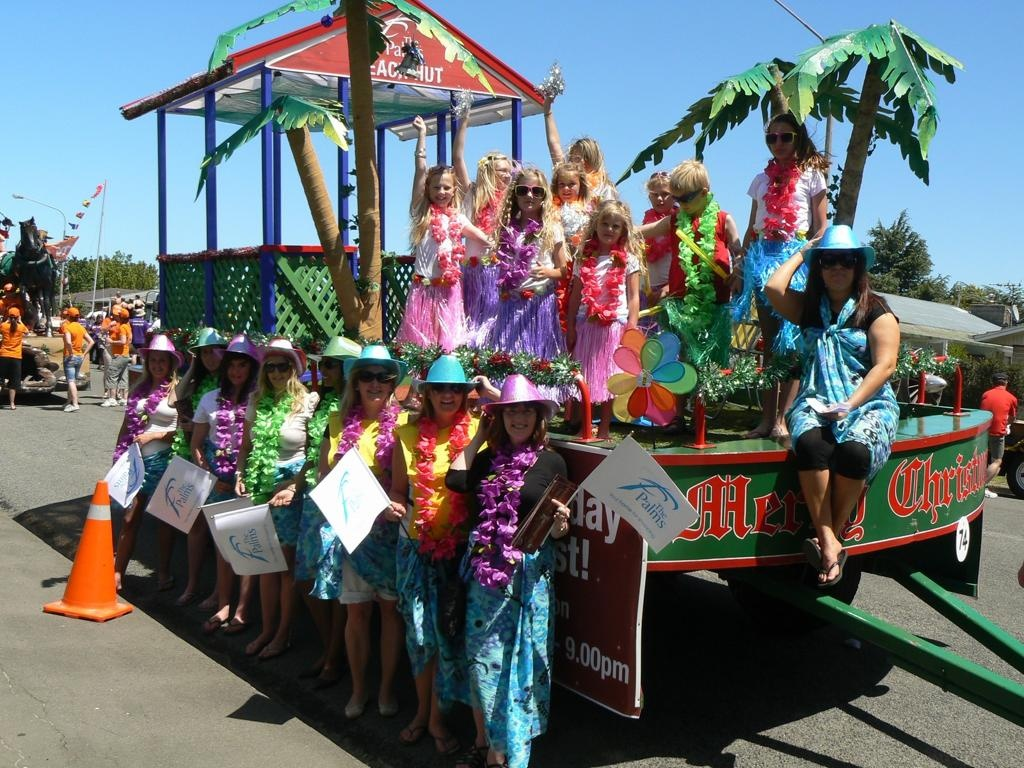human_face: (819, 248, 855, 292), (426, 381, 464, 417), (503, 402, 537, 440), (766, 120, 798, 160), (358, 366, 390, 404), (516, 178, 544, 212), (265, 354, 293, 388), (596, 210, 622, 246), (673, 186, 701, 216), (556, 170, 580, 204), (318, 354, 342, 388), (649, 183, 675, 213), (226, 357, 250, 385), (146, 350, 170, 378), (430, 175, 452, 205), (572, 146, 594, 176), (199, 348, 223, 370), (465, 398, 485, 422), (492, 162, 510, 188), (116, 312, 122, 322), (6, 289, 12, 297), (64, 312, 70, 318), (98, 316, 102, 324), (109, 314, 113, 318), (153, 317, 157, 321)
